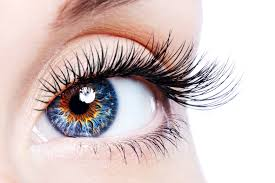pupil: (47, 77, 117, 136)
